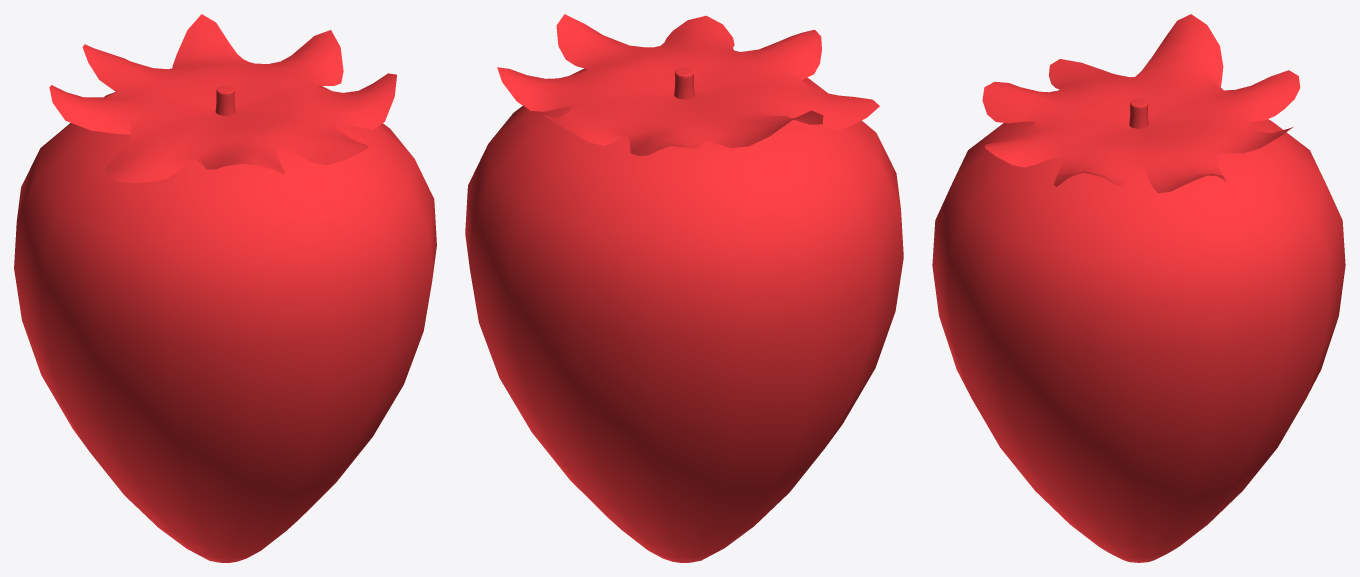
File: Strawberry.fbx
3 renders of one model, left to right at view 1: azimuth 30°, elevation 25°; view 2: azimuth 150°, elevation 25°; view 3: azimuth 270°, elevation 25°, orthographic. The views are drawn at different scales.
Parts seen in each view (by area): view 1: Cube.003; view 2: Cube.003; view 3: Cube.003.
Part boxes in pixels (x1,y1,x2,y2): Cube.003: (14, 14, 436, 562); Cube.003: (465, 14, 903, 562); Cube.003: (932, 14, 1345, 562).
Size of the model in its own units: 5.2 by 6.59 by 5.2.
